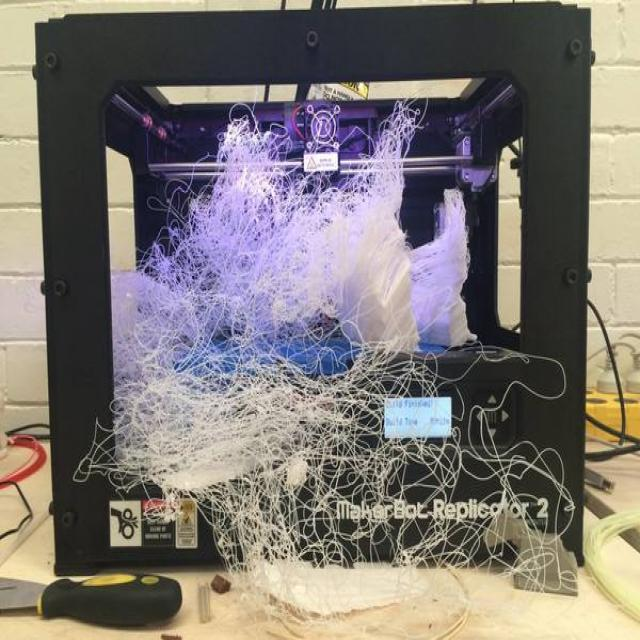spaghetti: (271, 367, 564, 615), (112, 180, 280, 572), (249, 114, 415, 343)
